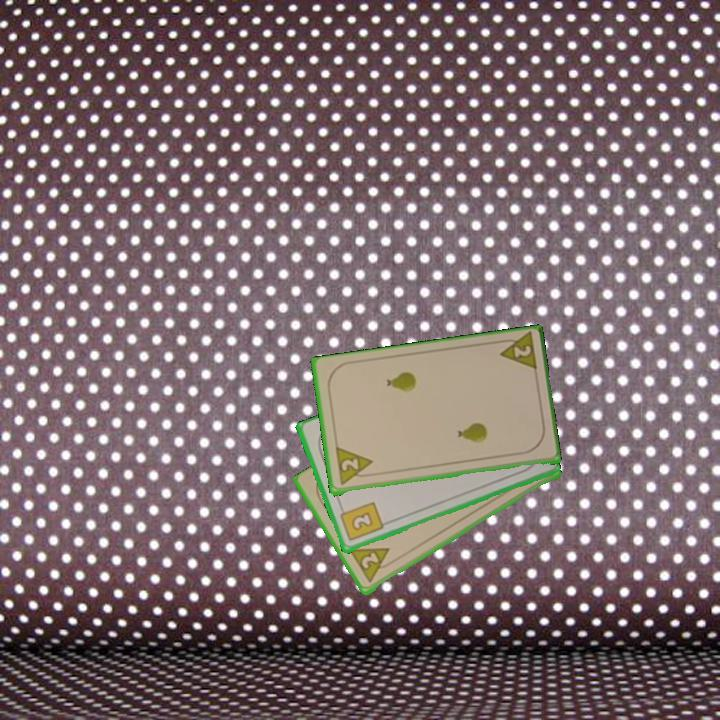2b: (336, 499, 386, 544)
2p: (347, 544, 398, 586), (493, 331, 540, 375), (332, 445, 376, 488)
